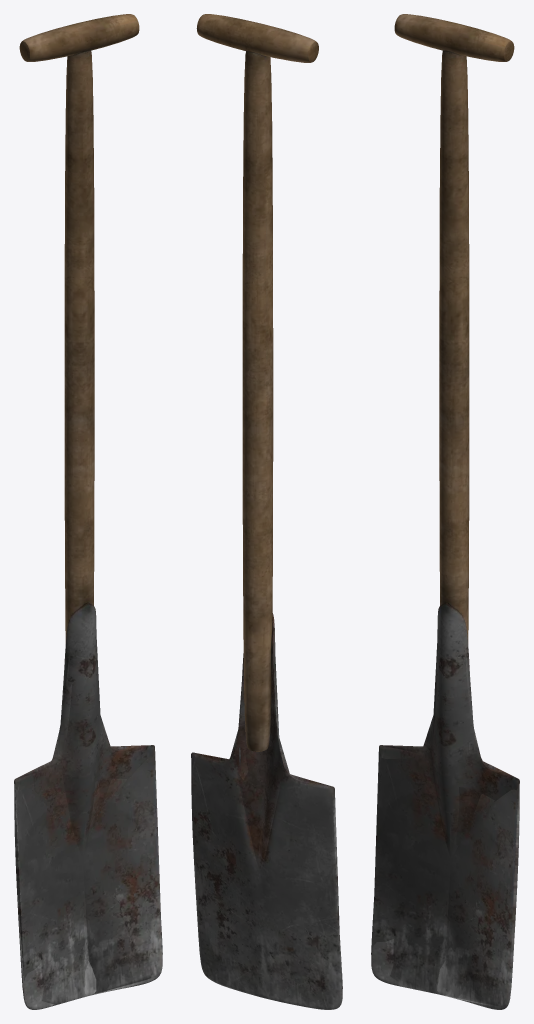
Rendered from rusted_spade_01.glb.
3 views of the same model, side by side, from view 1: azimuth 30°, elevation 25°; view 2: azimuth 150°, elevation 25°; view 3: azimuth 330°, elevation 25° (orthographic). The views are drawn at different scales.
Visible parts, largest first — view 1: rusted_spade_01, rusted_spade_01_lo; view 2: rusted_spade_01, rusted_spade_01_lo; view 3: rusted_spade_01, rusted_spade_01_lo.
Part boxes in pixels (box(x1,y1,x2,y2)): rusted_spade_01: box(14, 14, 162, 1009); rusted_spade_01_lo: box(14, 612, 162, 1006); rusted_spade_01: box(191, 14, 342, 1009); rusted_spade_01_lo: box(192, 616, 339, 929); rusted_spade_01: box(371, 14, 519, 1009); rusted_spade_01_lo: box(372, 612, 519, 1006).
Size of the model in its own units: 0.1681 by 1.1 by 0.0456.
1 material, 1 textured.
